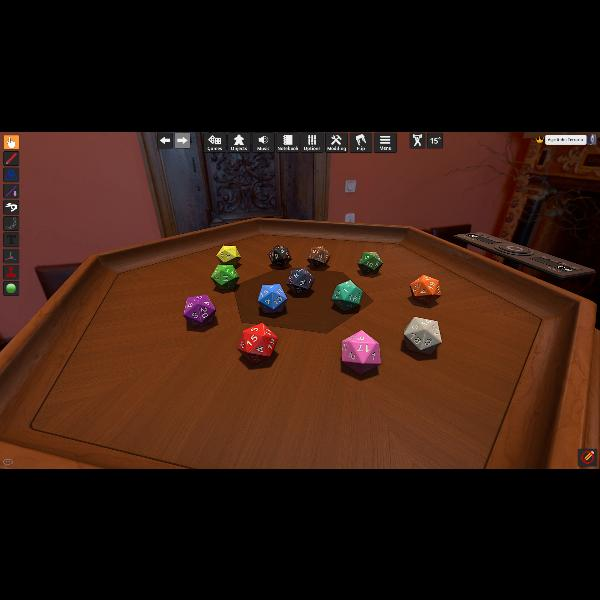d20: (237, 323, 279, 363), (341, 329, 379, 373), (406, 315, 442, 353), (184, 294, 215, 326), (258, 282, 288, 312), (410, 273, 440, 303), (331, 280, 359, 308), (210, 263, 238, 289), (286, 266, 312, 292), (268, 245, 292, 268), (358, 250, 380, 274), (217, 244, 241, 266), (307, 245, 329, 267)
